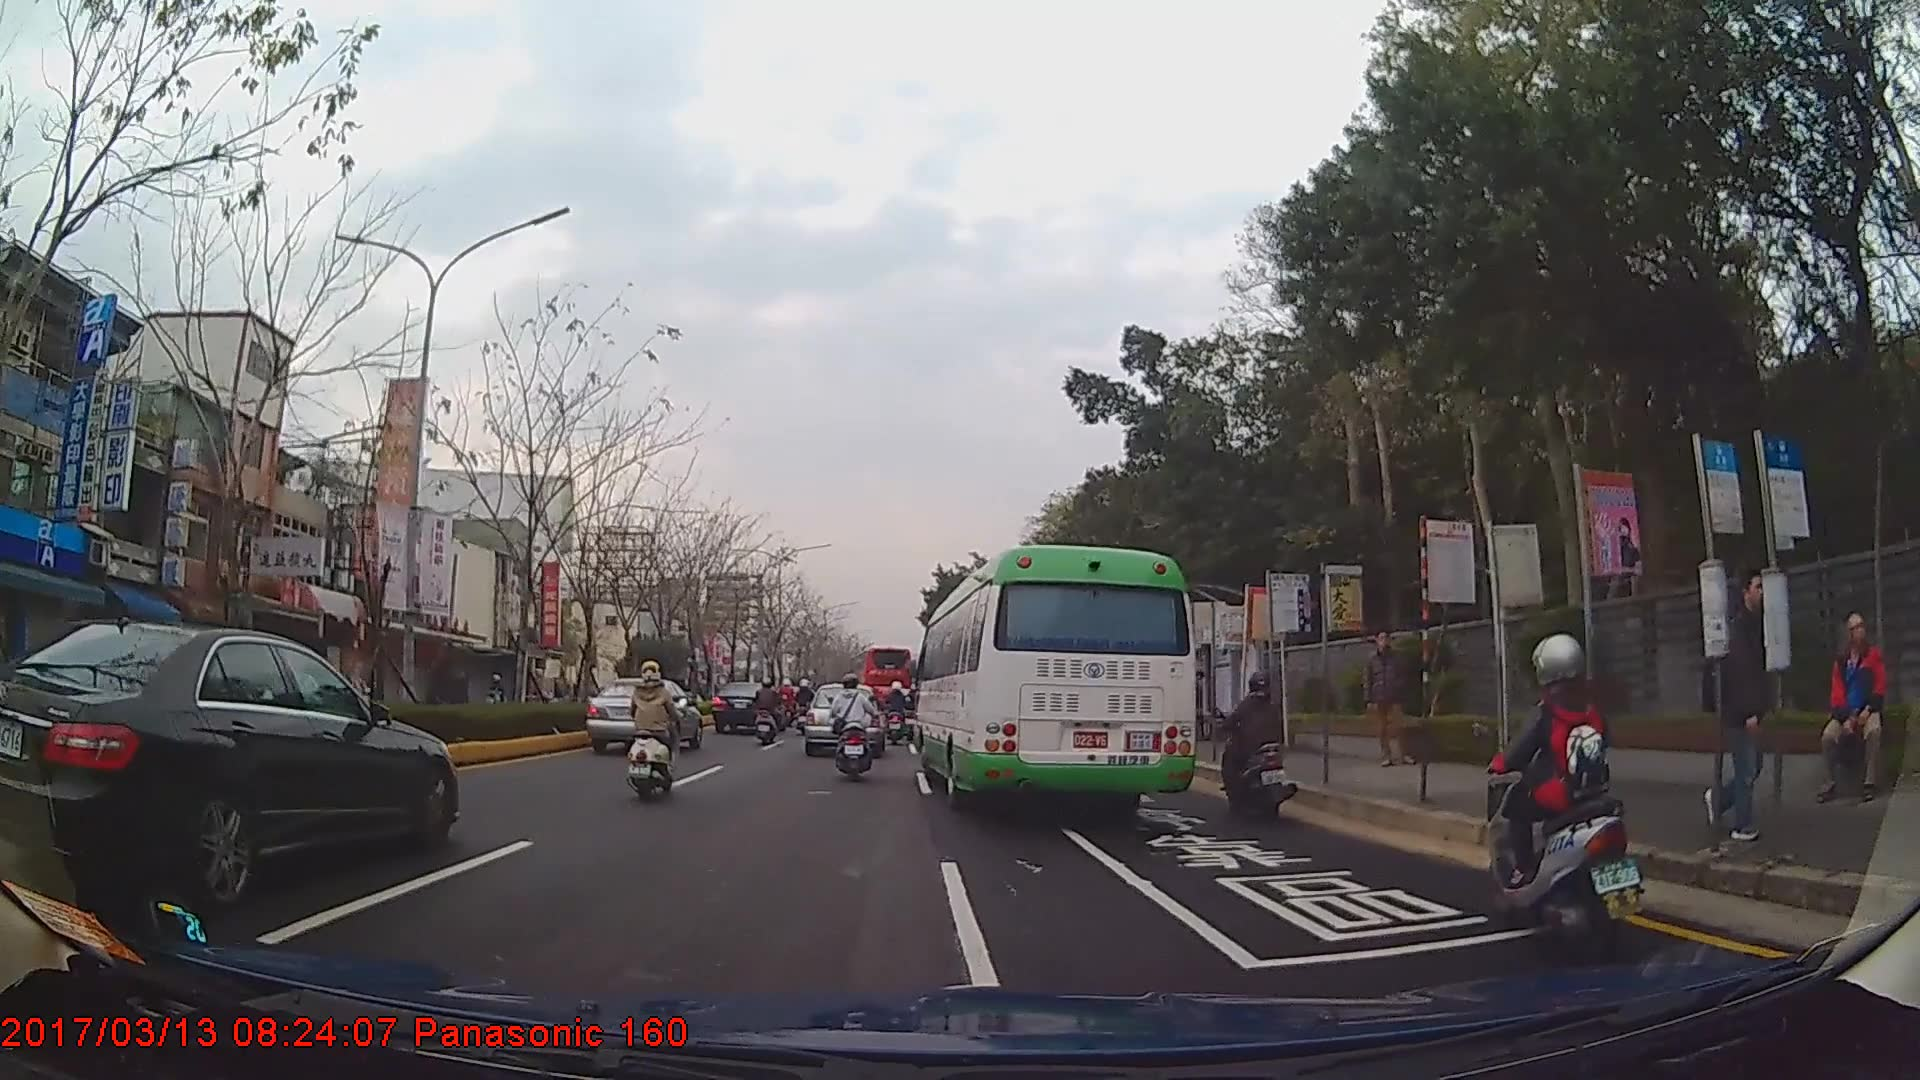pedestrian: (1699, 564, 1783, 852), (1819, 613, 1889, 804), (1363, 630, 1415, 767)
rider: (1481, 633, 1642, 938), (1211, 678, 1294, 823), (624, 665, 680, 804), (827, 679, 876, 785), (754, 679, 783, 750), (883, 680, 910, 736), (793, 679, 815, 726), (484, 674, 507, 705), (363, 669, 384, 702)
vehicle: (0, 620, 456, 900), (910, 544, 1196, 822), (584, 677, 703, 752), (802, 680, 881, 759), (846, 645, 913, 717), (712, 680, 782, 737)
